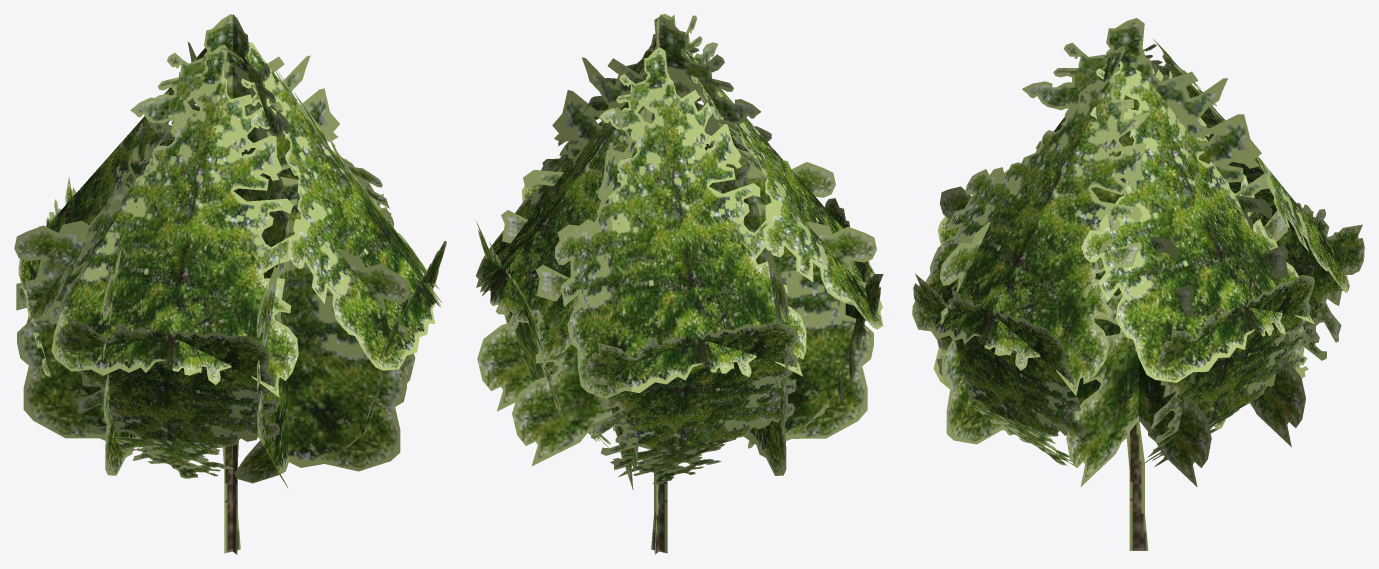
Rendered from simple-texture-tree-3.glb.
The picture shows the model from 3 angles, left to right: view 1: azimuth 30°, elevation 25°; view 2: azimuth 150°, elevation 25°; view 3: azimuth 270°, elevation 25°; orthographic projection.
Parts seen in each view (by area): view 1: コンポーネント#2; view 2: コンポーネント#2; view 3: コンポーネント#2.
Boxes of the visible parts, box(x1,y1,x2,y2) form: コンポーネント#2: box(14, 14, 446, 554); コンポーネント#2: box(476, 14, 883, 554); コンポーネント#2: box(912, 18, 1364, 550).
Size of the model in its own units: 4.64 by 6.38 by 4.91.
1 material, 1 textured.
